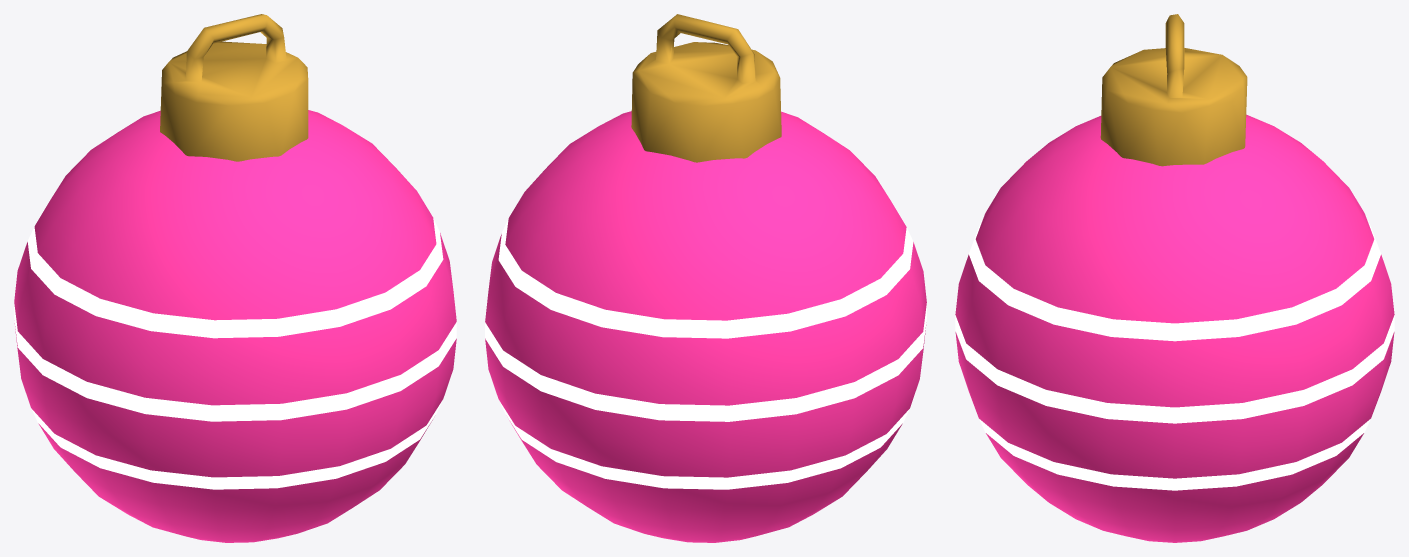
The picture shows the model from 3 angles, left to right: view 1: azimuth 30°, elevation 25°; view 2: azimuth 150°, elevation 25°; view 3: azimuth 270°, elevation 25°; orthographic projection.
Visible parts, largest first — view 1: handle; view 2: handle; view 3: handle.
Boxes of the visible parts, x1,y1,x2,y2 form: handle: [14, 14, 456, 542]; handle: [485, 14, 926, 542]; handle: [955, 14, 1394, 542].
Bounding box in the file's own units: 0.1143 × 0.142 × 0.1143.
